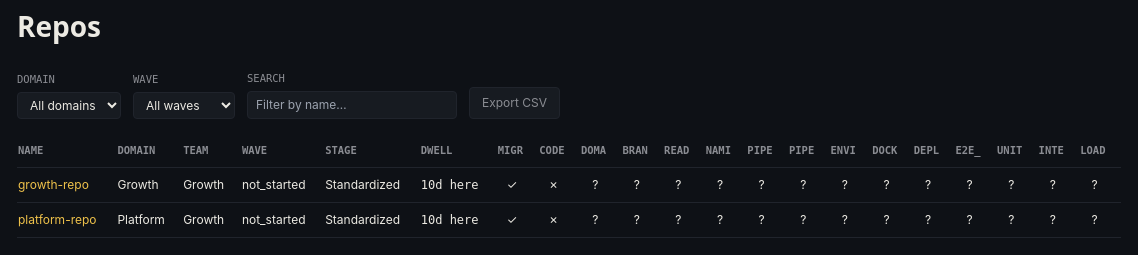
RepoTablePage › filters by domain
The image size is (1138, 255).
Expected: the link "growth-repo" is shown, left=18, top=176, right=89, bottom=192
Select "Platform" in the dropdown labelled "Domain": point(69, 105) left=17, top=92, right=121, bottom=119
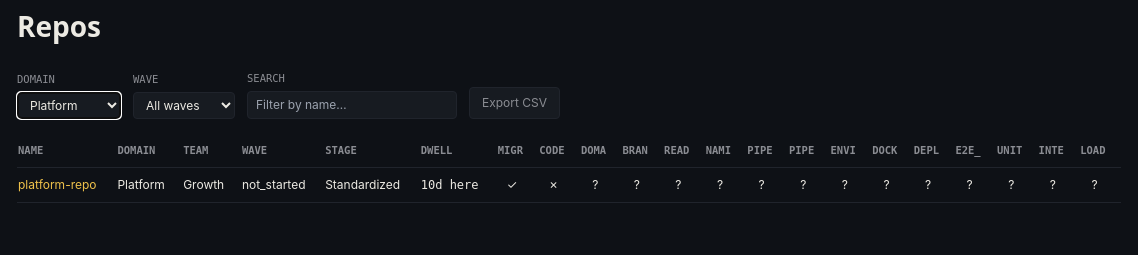
Expected: the link "platform-repo" is shown, left=18, top=176, right=96, bottom=192
Expected: the link "growth-repo" is gone
